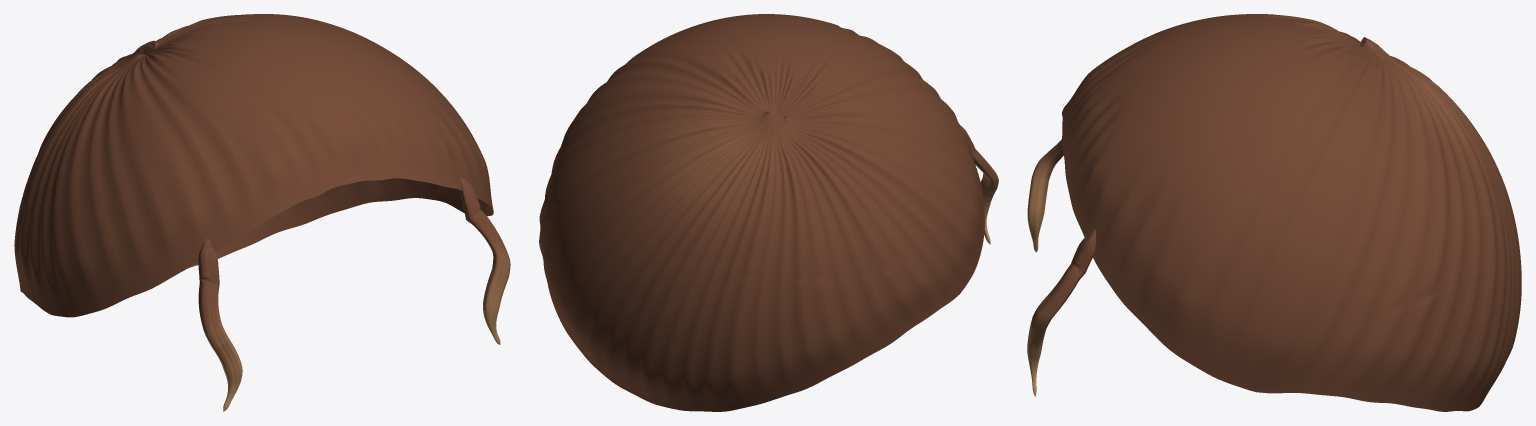
Rendered from ponytail-beanie-fringe-ombre.glb.
3 renders of one model, left to right at view 1: azimuth 30°, elevation 25°; view 2: azimuth 150°, elevation 25°; view 3: azimuth 270°, elevation 25°, orthographic. The views are drawn at different scales.
Parts seen in each view (by area): view 1: 226 hair / Hair / crisp pulled roots220.002, 226 hair / Hair / sculpted front locks222.002; view 2: 226 hair / Hair / crisp pulled roots220.002, 226 hair / Hair / sculpted front locks222.002; view 3: 226 hair / Hair / crisp pulled roots220.002, 226 hair / Hair / sculpted front locks222.002.
Boxes of the visible parts, x1,y1,x2,y2 form: 226 hair / Hair / crisp pulled roots220.002: (14,14,493,317); 226 hair / Hair / sculpted front locks222.002: (198,176,510,411); 226 hair / Hair / crisp pulled roots220.002: (539,14,984,411); 226 hair / Hair / sculpted front locks222.002: (959,124,998,244); 226 hair / Hair / crisp pulled roots220.002: (1061,14,1521,411); 226 hair / Hair / sculpted front locks222.002: (1027,139,1096,396).
Size of the model in its own units: 0.7726 by 0.5697 by 0.7364.
2 materials, 2 textured.
